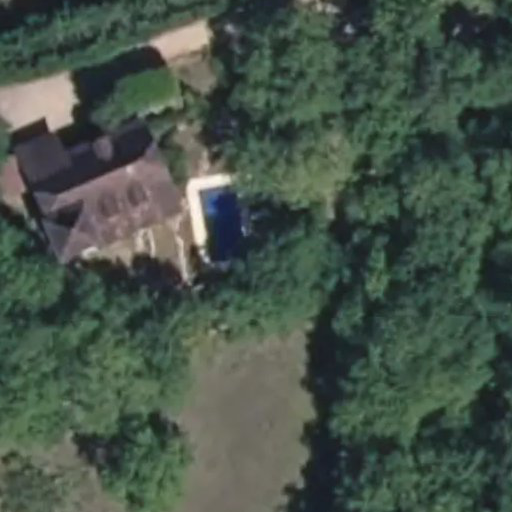pool: (193, 185, 263, 268)
